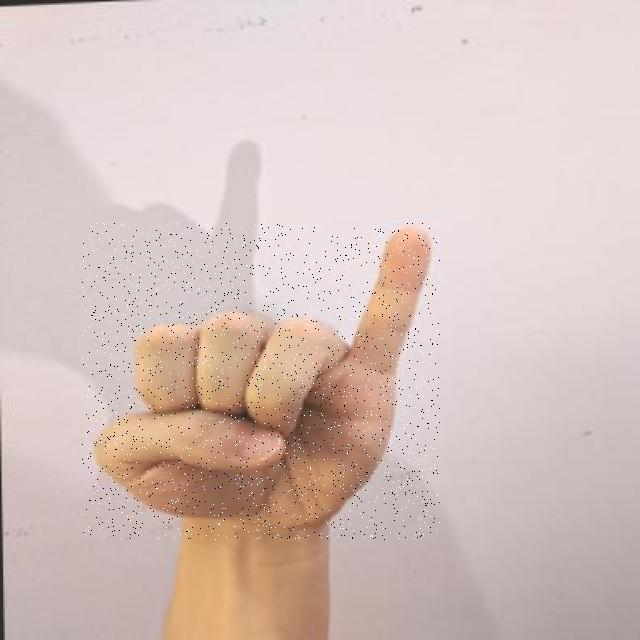I: (82, 223, 440, 540)
